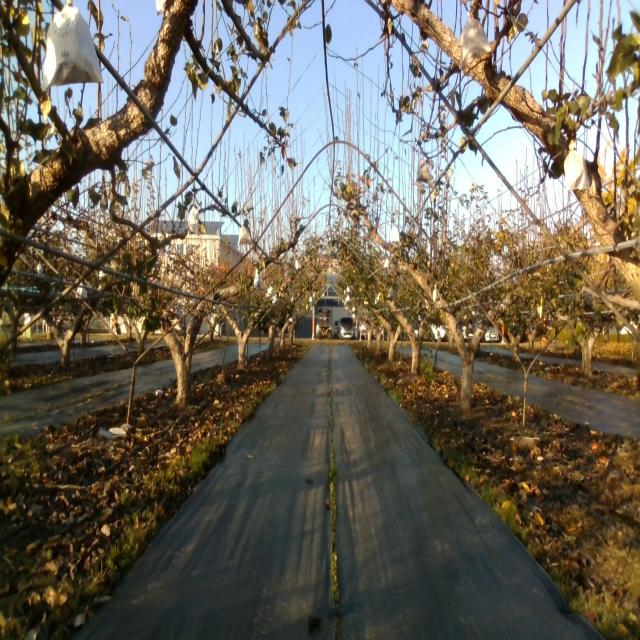pearbags: (41, 0, 103, 93), (457, 16, 493, 70), (563, 138, 593, 194), (416, 158, 430, 185), (237, 222, 252, 247), (188, 205, 200, 235)
